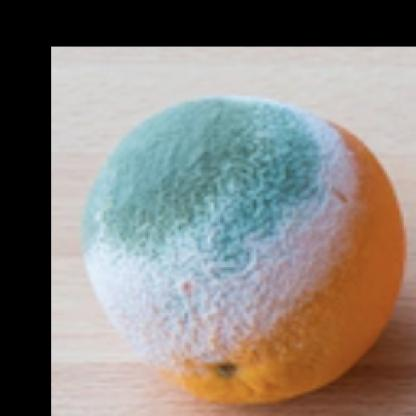rotten: (82, 98, 404, 406)
